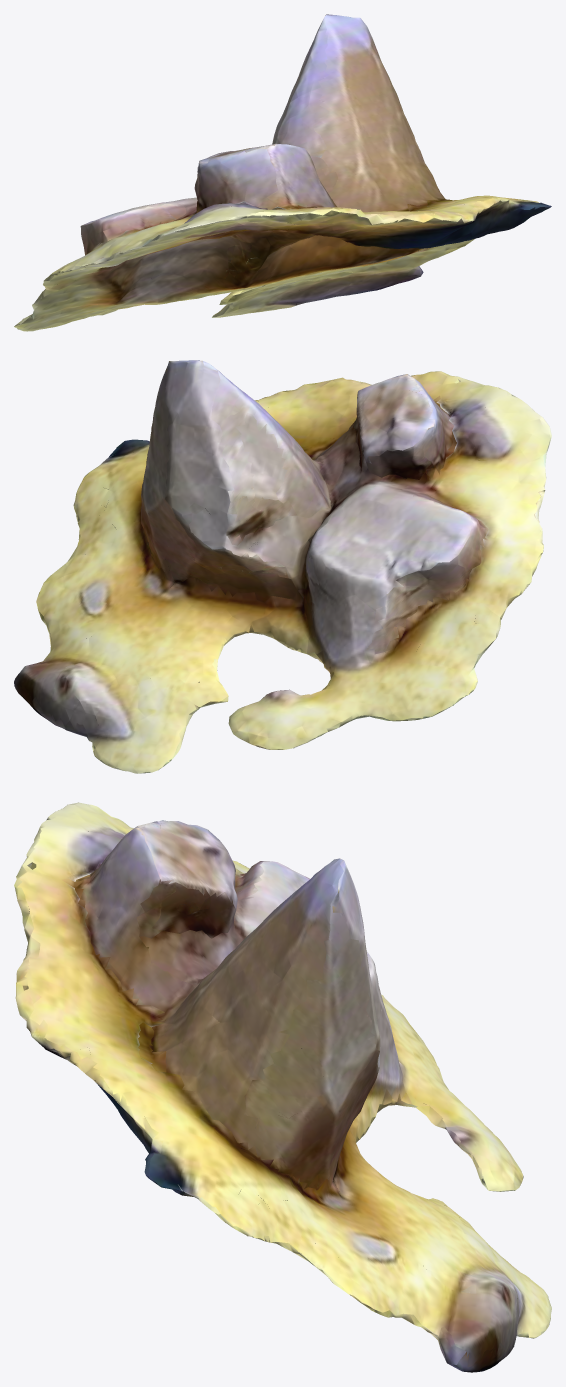
3 renders of one model, top to bottom at view 1: azimuth 30°, elevation 25°; view 2: azimuth 150°, elevation 25°; view 3: azimuth 270°, elevation 25°, orthographic. The views are drawn at different scales.
Parts seen in each view (by area): view 1: world; view 2: world; view 3: world.
Boxes of the visible parts, left/top/right/bottom form: world: left=14, top=14, right=551, bottom=331; world: left=14, top=360, right=551, bottom=773; world: left=14, top=802, right=551, bottom=1372.
Bounding box in the file's own units: 1 × 0.7206 × 0.7611.
1 material, 1 textured.
